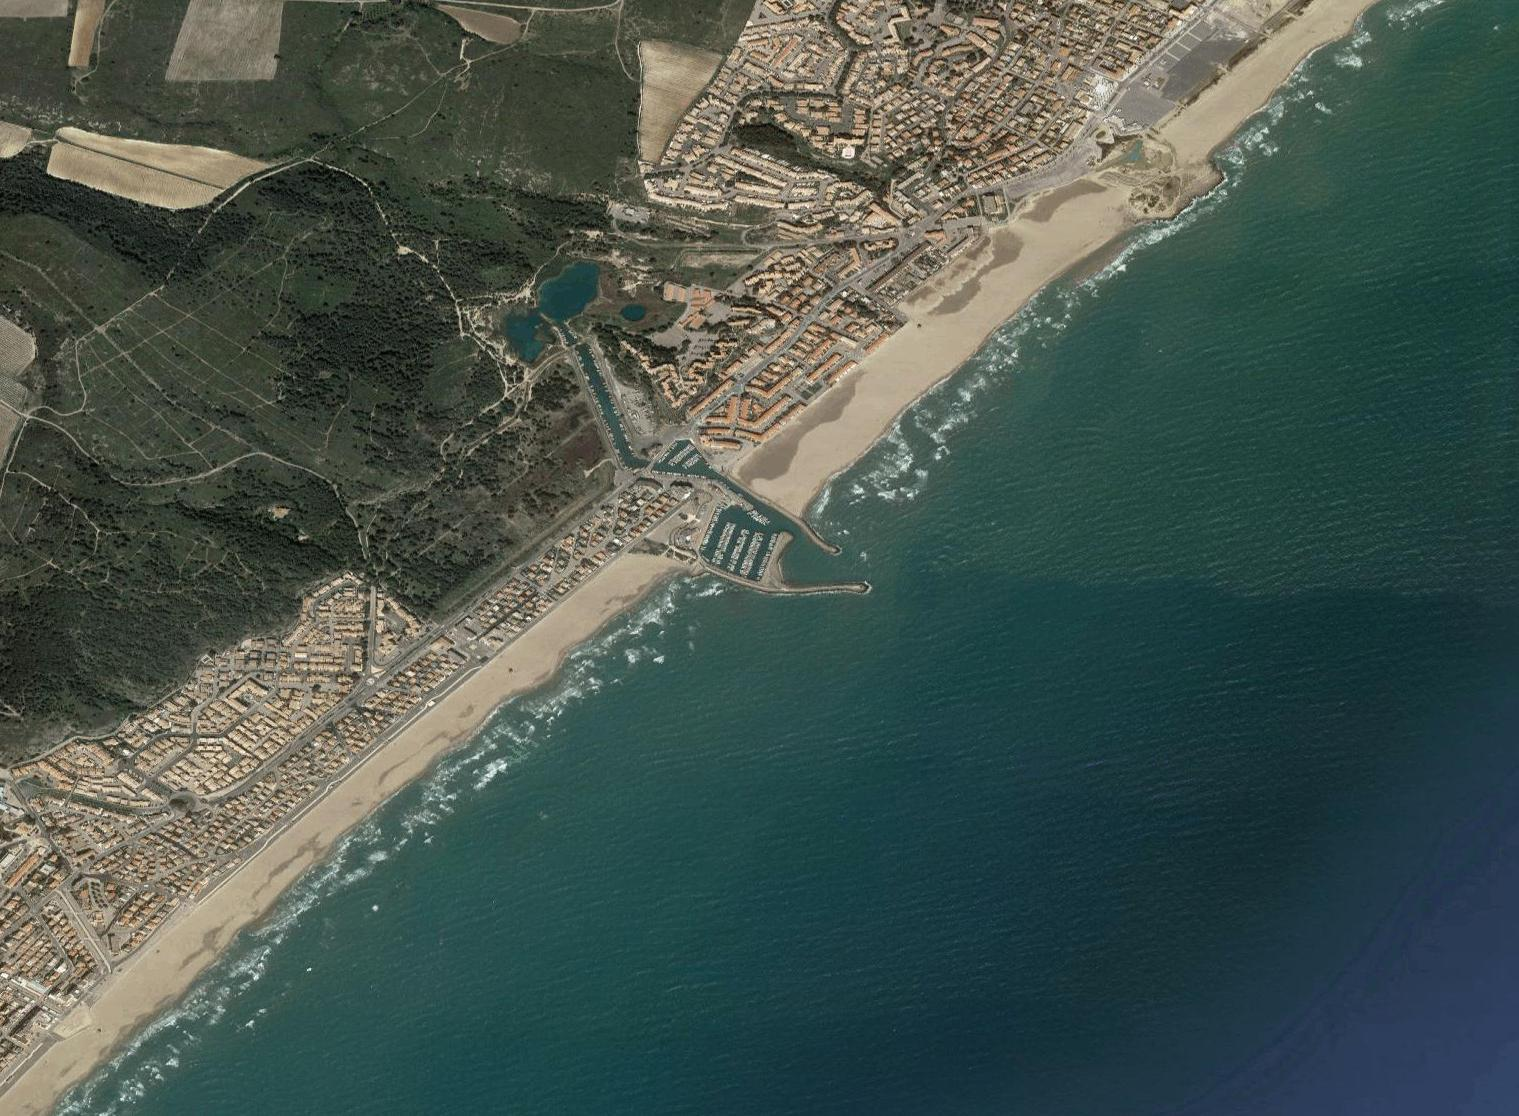harbor: (678, 477, 877, 623)
